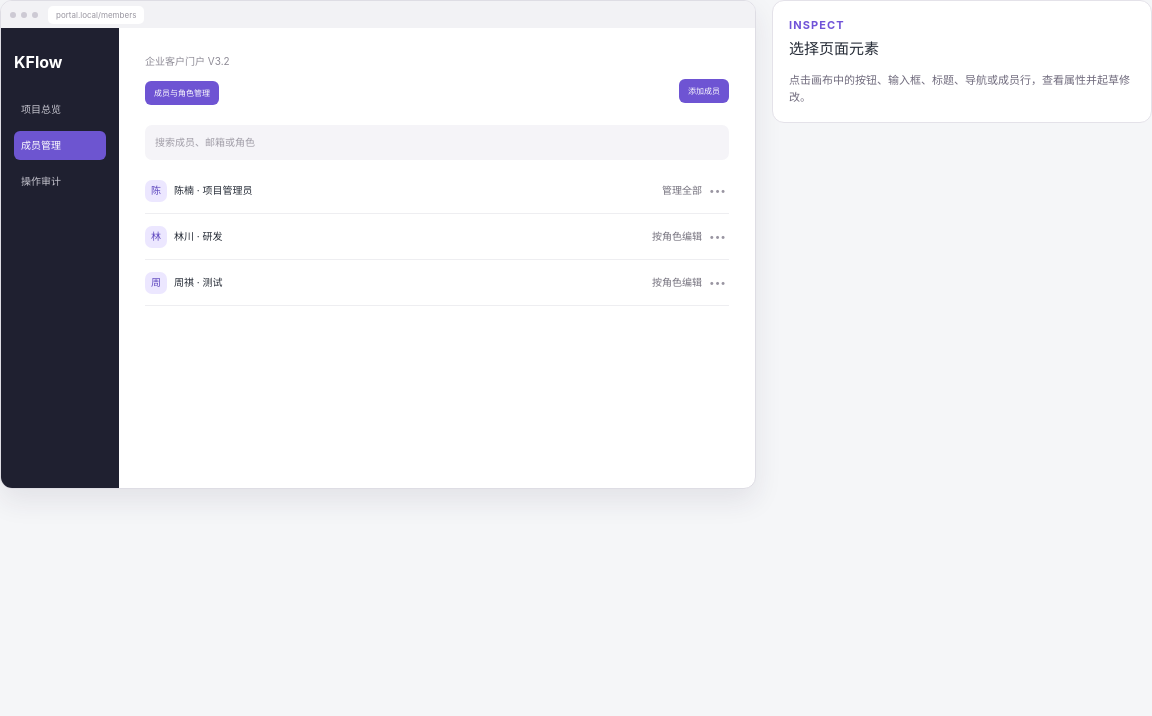
Test: subscribes to prototype document updates from another same-origin tab
The width and height of the screenshot is (1152, 716).
Click the button with aria-label "选择添加成员按钮": (704, 90) [679,78,729,102]
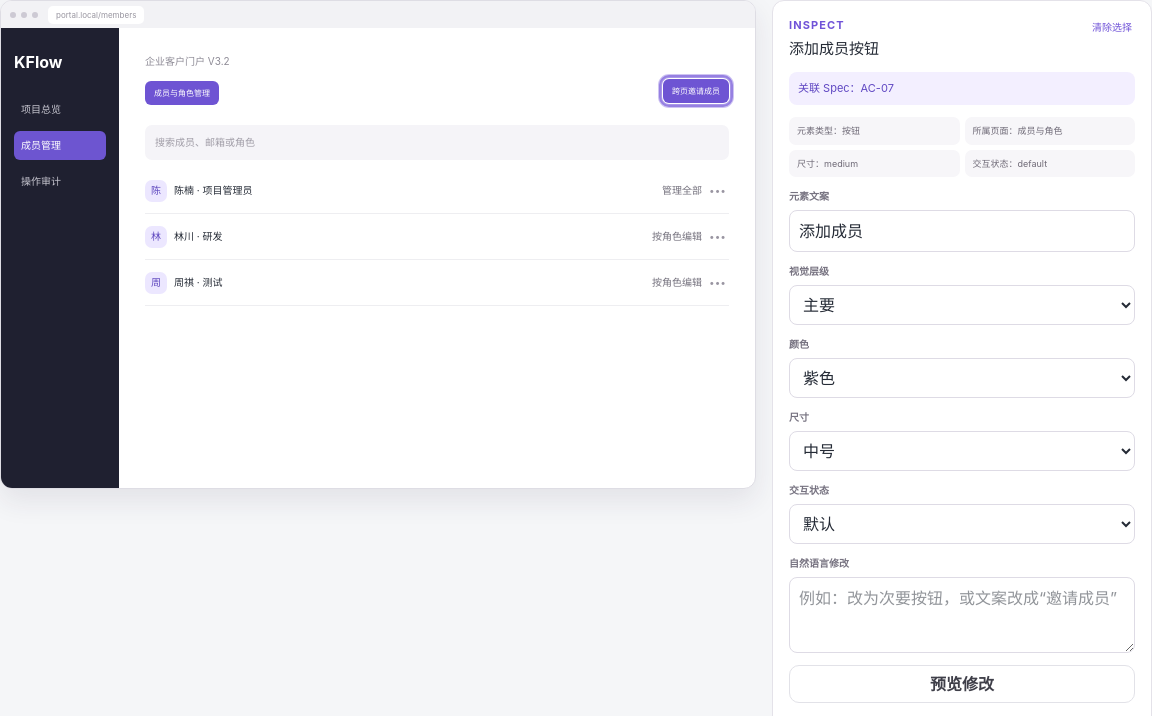
expect the button with aria-label "选择跨页邀请成员按钮" is shown: met, box [663,78,729,102]
